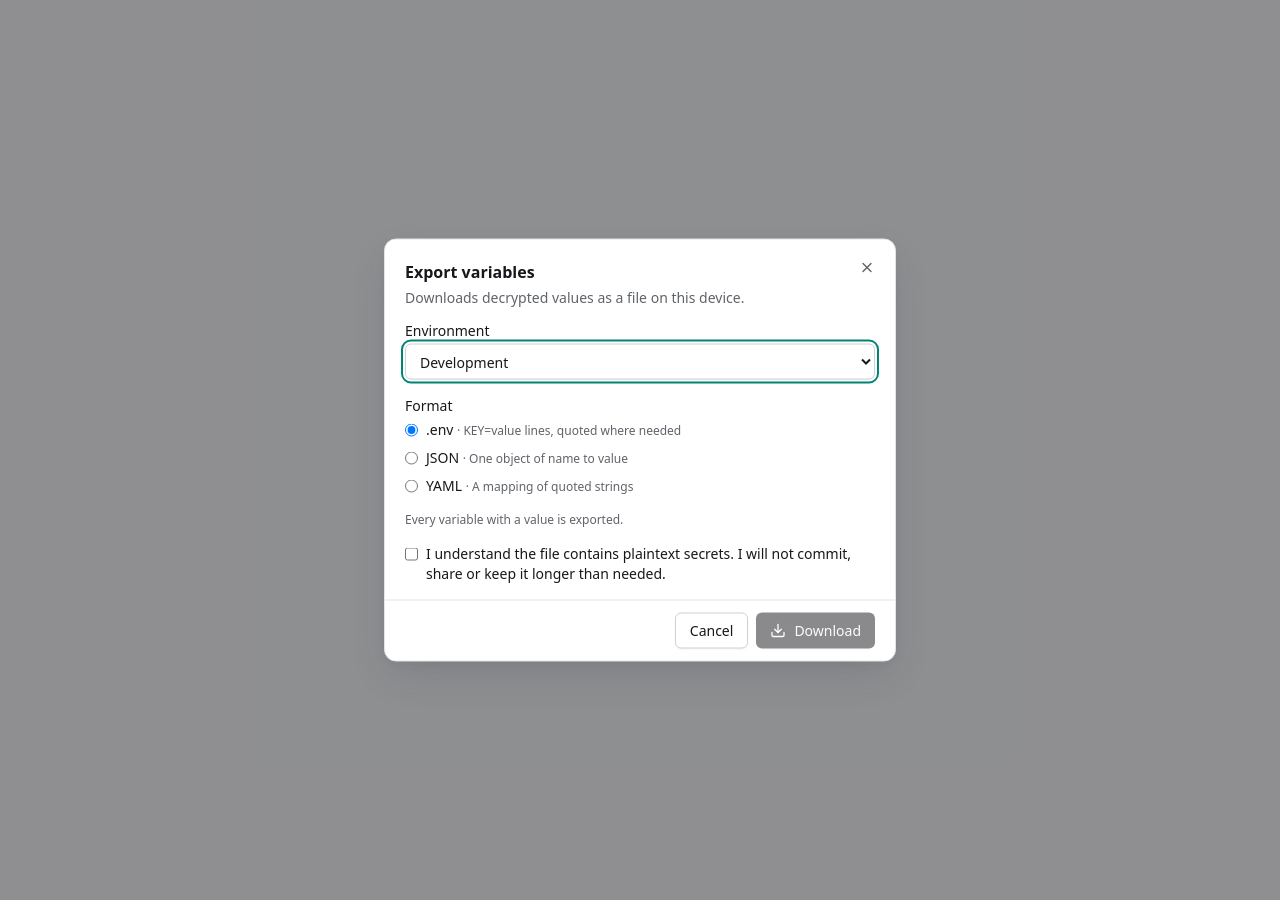
Test: ExportDialog › warns about protected environments and asks for the password when required
Step 1. Select "Production (protected)" in the dropdown labelled "Environment" → (640, 362), box [405,344,875,380]
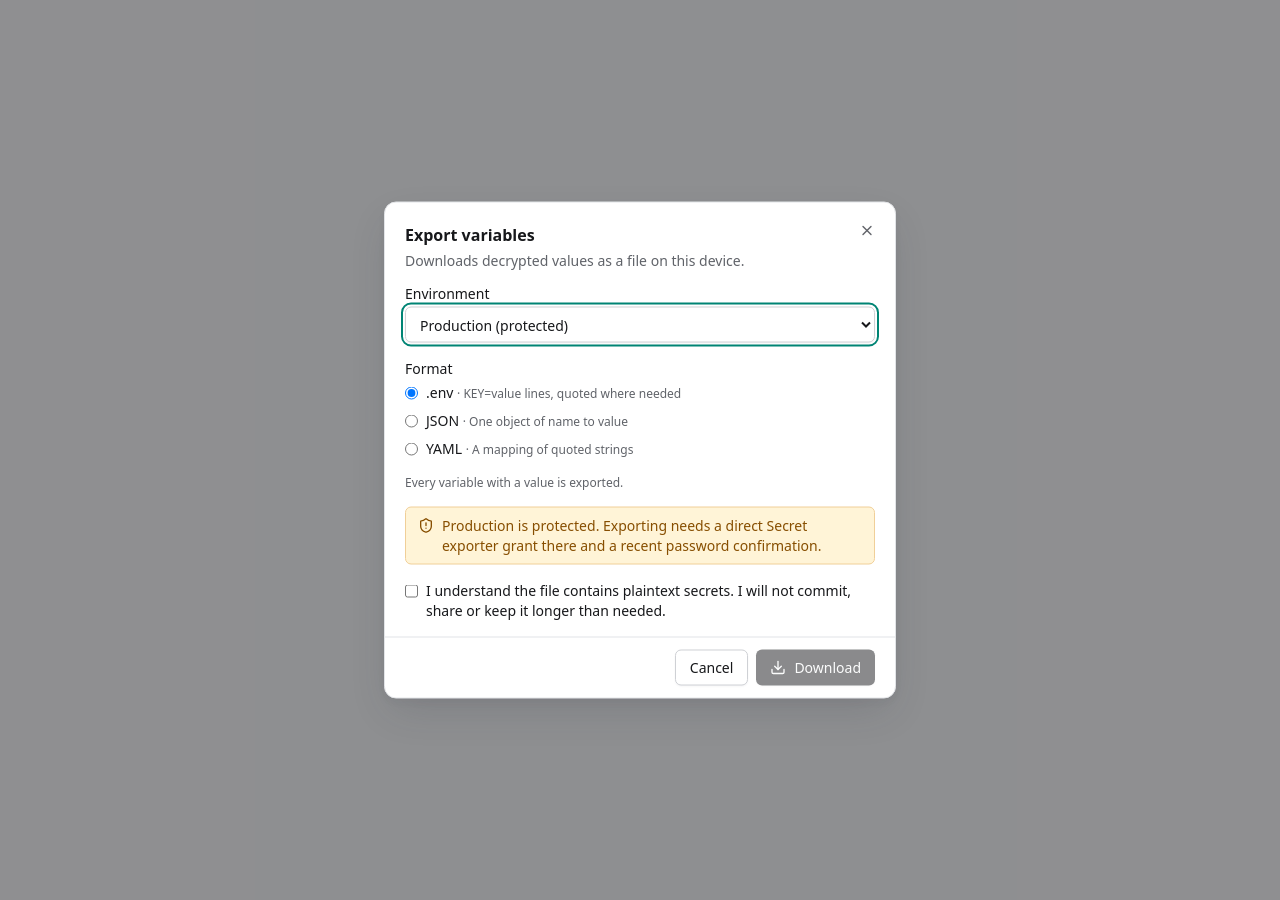
Expected: the text "Production is protected" is shown, [405,506,875,564]
Step 2. Click the checkbox labelled "I understand" → click(412, 591), box [405,584,418,598]
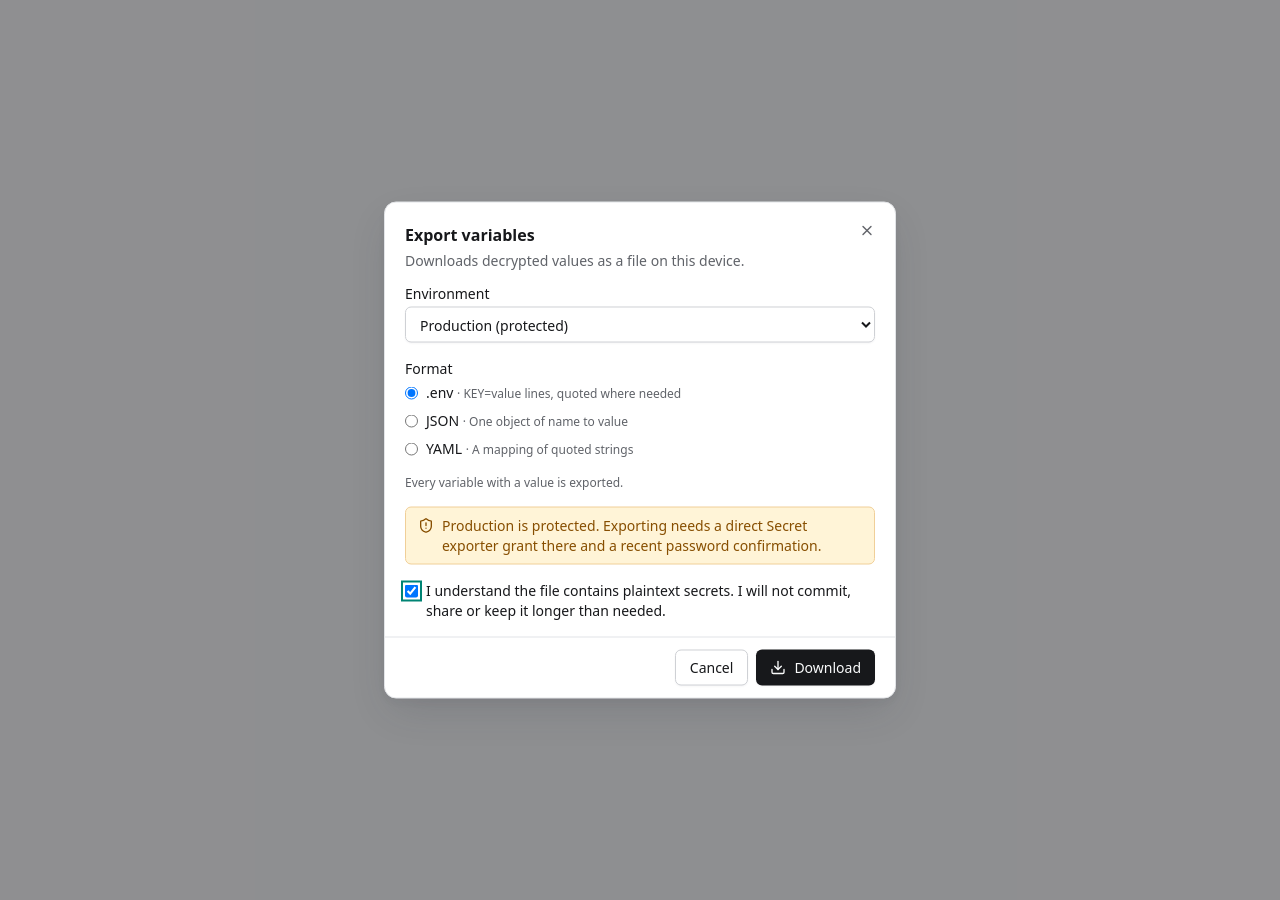
Step 3. Click the button "Download" → click(816, 668), box [756,650,875,686]
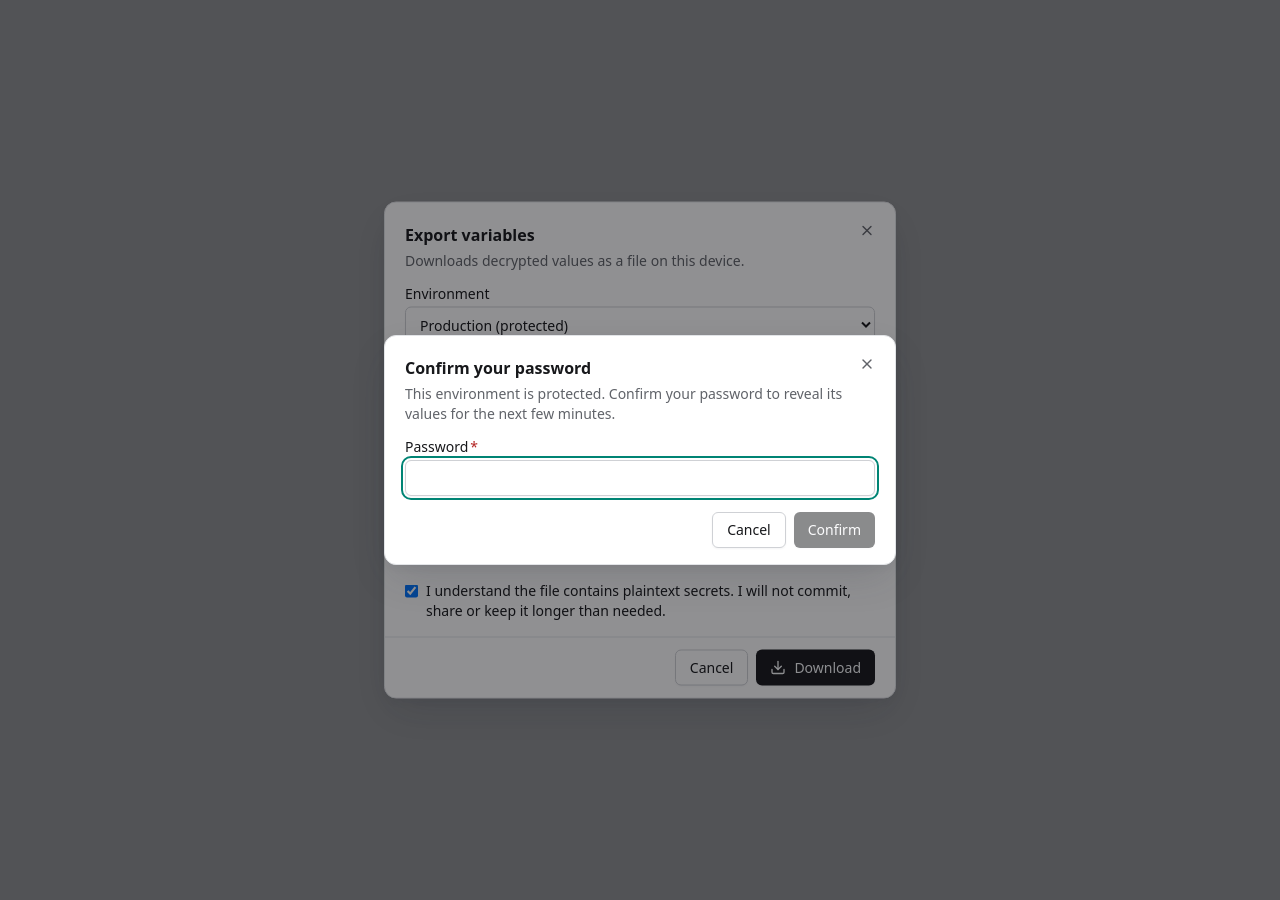
Expected: the dialog "Confirm your password" is shown, [384,335,896,565]
